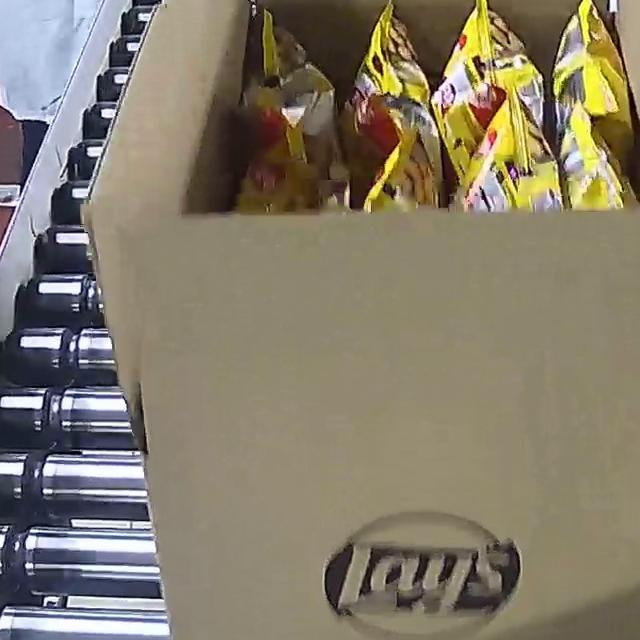salted: (184, 0, 640, 224)
